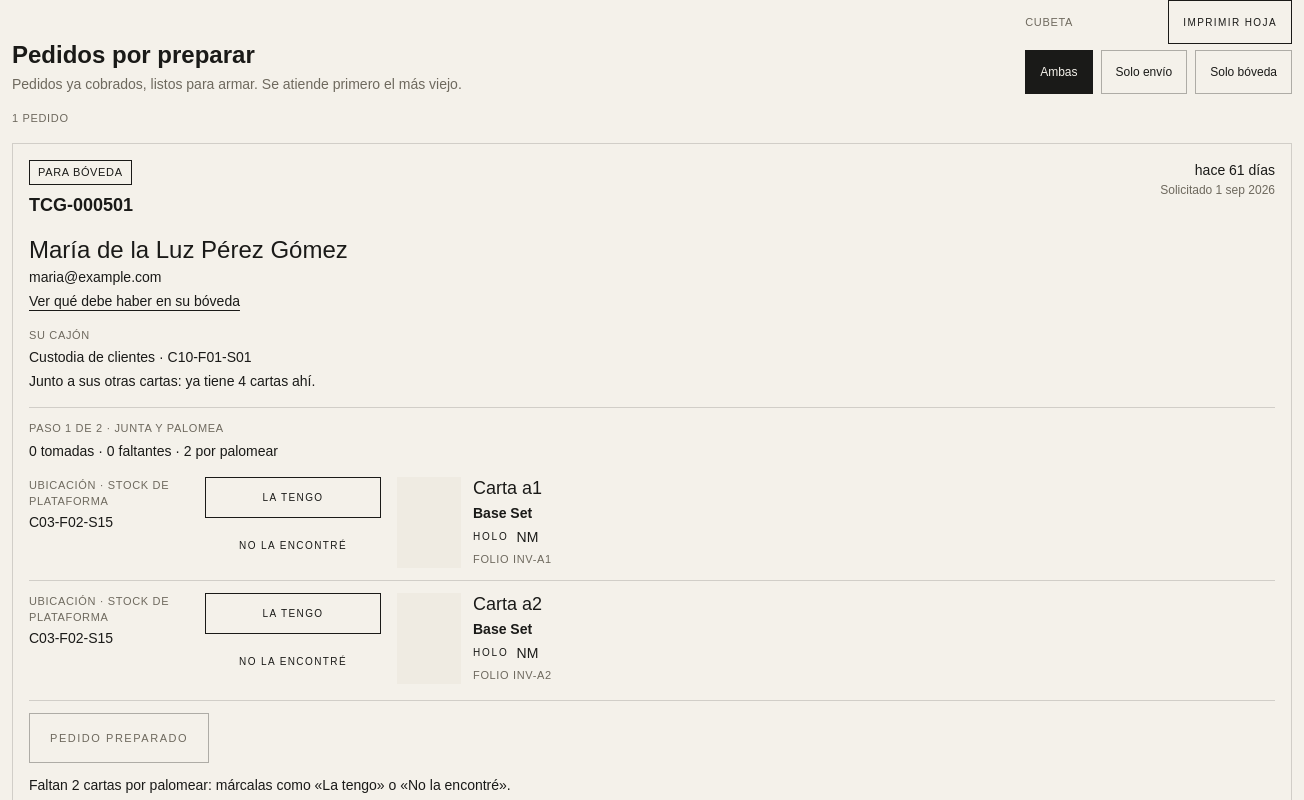
Test: Tarjeta «Para bóveda» · verbos y respuestas (§36.5–§36.9) › palomear: la marca se pinta con la RESPUESTA del servidor (sin optimismo) y el conteo vive en la región viva
This screenshot has width=1304, height=800.
Expected: the message with test id "vault-live-vp-1" reads "0 tomadas · 0 faltantes · 2 por palomear", [29,442,278,458]
Click the button with aria-label "La tengo: Carta a1 · INV-a1" at (293, 497), box [205,476,381,518]
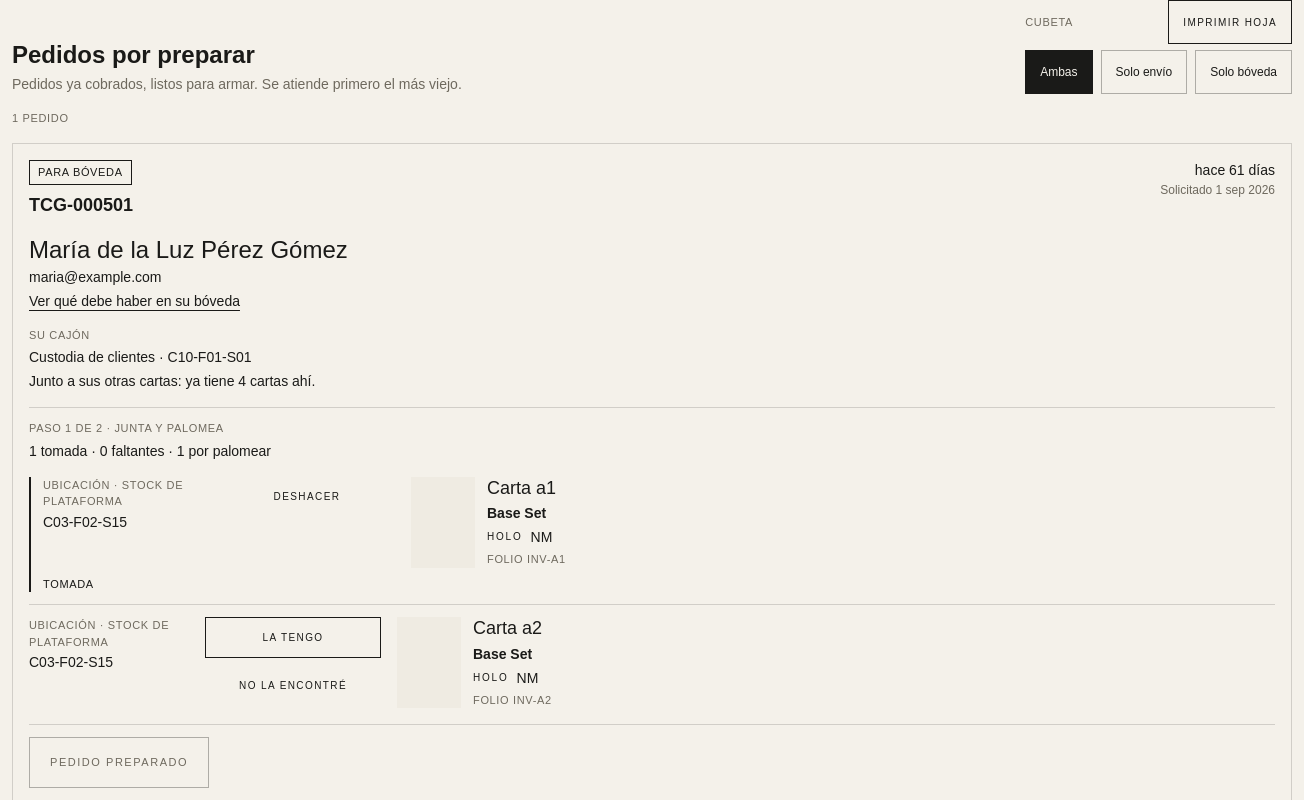
Now the list item with test id "prep-item-a1" shows "Tomada", box [43,578,94,590]
Now the message with test id "vault-live-vp-1" reads "1 tomada · 0 faltantes · 1 por palomear", box [29,442,271,458]
